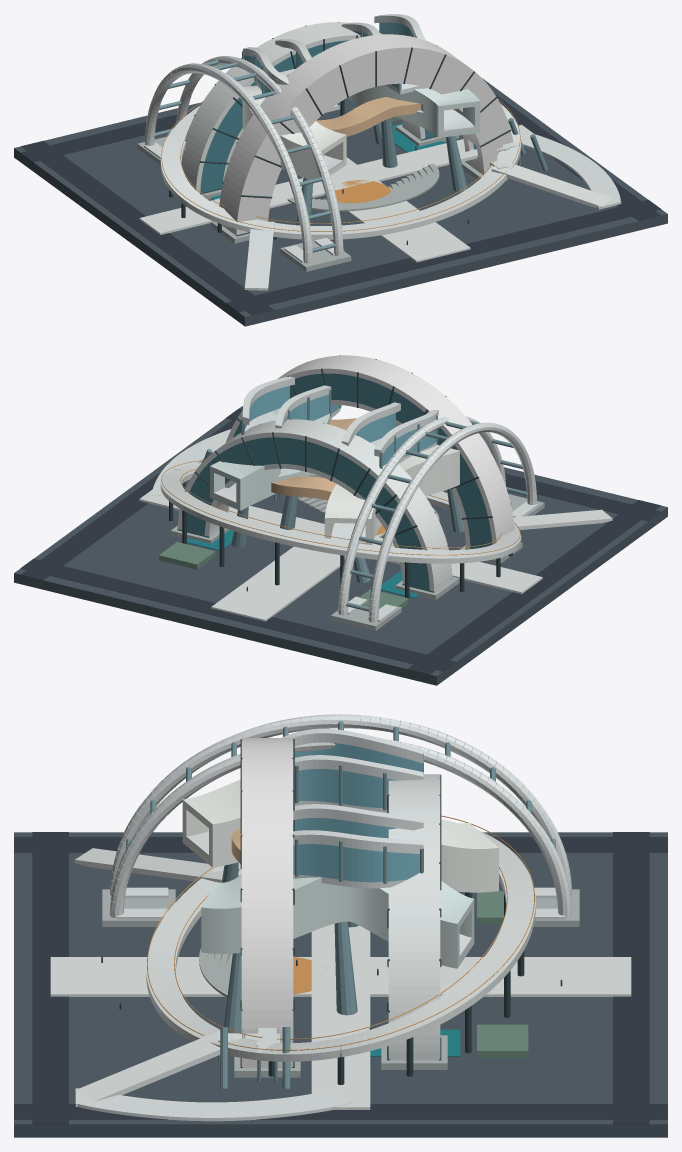
Rendered from a10_inhabited_double_shell_canyon.glb.
The picture shows the model from 3 angles, top to bottom: view 1: azimuth 30°, elevation 25°; view 2: azimuth 150°, elevation 25°; view 3: azimuth 270°, elevation 25°; orthographic projection. The views are drawn at different scales.
Parts seen in each view (by area): view 1: District base, SOUTH continuous glazed occupied band_A9_FLARED, SOUTH outer load shell_A7_PORTAL_A9_FLARED, Continuous elliptical public promenade, E-W road, NORTH outer load shell, N-S road, Public ground, continuous E-W axis, A10_EAST_INHABITED_TIDAL_SHELL, Public ground, continuous N-S axis, NORTH continuous glazed occupied band, A10_WEST_INHABITED_FAULT_SHELL (+15 smaller); view 2: District base, SOUTH outer load shell_A7_PORTAL_A9_FLARED, Continuous elliptical public promenade, NORTH continuous glazed occupied band.001, NORTH outer load shell, E-W road.001, Public ground, continuous N-S axis, N-S road, SOUTH continuous glazed occupied band.001, A10_WEST_INHABITED_FAULT_SHELL, Public ground, continuous E-W axis, A10_EAST_INHABITED_TIDAL_SHELL (+17 smaller); view 3: District base, SOUTH outer load shell_A7_PORTAL_A9_FLARED, Continuous elliptical public promenade, NORTH outer load shell, Public ground, continuous N-S axis, E-W road.001, E-W road, A10_EAST_INHABITED_TIDAL_SHELL, Public ground, continuous E-W axis, A10_WEST_INHABITED_FAULT_SHELL, N-S road.001, A7_APPROACH_CURVED_DECK (+20 smaller).
Part boxes in pixels (bbox=[...]): District base: bbox=[14, 45, 667, 326]; SOUTH continuous glazed occupied band_A9_FLARED: bbox=[241, 52, 508, 233]; SOUTH outer load shell_A7_PORTAL_A9_FLARED: bbox=[219, 34, 513, 235]; Continuous elliptical public promenade: bbox=[160, 103, 521, 239]; E-W road: bbox=[226, 199, 661, 312]; NORTH outer load shell: bbox=[181, 22, 381, 193]; N-S road: bbox=[21, 141, 273, 315]; Public ground, continuous E-W axis: bbox=[139, 124, 533, 234]; A10_EAST_INHABITED_TIDAL_SHELL: bbox=[347, 85, 480, 137]; Public ground, continuous N-S axis: bbox=[297, 157, 470, 262]; NORTH continuous glazed occupied band: bbox=[200, 40, 435, 193]; A10_WEST_INHABITED_FAULT_SHELL: bbox=[242, 85, 346, 181]; District base: bbox=[14, 406, 667, 685]; SOUTH outer load shell_A7_PORTAL_A9_FLARED: bbox=[226, 355, 514, 544]; Continuous elliptical public promenade: bbox=[160, 462, 521, 563]; NORTH continuous glazed occupied band.001: bbox=[187, 437, 429, 590]; NORTH outer load shell: bbox=[177, 419, 452, 591]; E-W road.001: bbox=[20, 558, 455, 671]; Public ground, continuous N-S axis: bbox=[211, 490, 444, 621]; N-S road: bbox=[408, 500, 660, 674]; SOUTH continuous glazed occupied band.001: bbox=[233, 373, 492, 549]; A10_WEST_INHABITED_FAULT_SHELL: bbox=[324, 444, 459, 544]; Public ground, continuous E-W axis: bbox=[139, 489, 542, 594]; A10_EAST_INHABITED_TIDAL_SHELL: bbox=[210, 410, 331, 510]; District base: bbox=[14, 832, 667, 1137]; SOUTH outer load shell_A7_PORTAL_A9_FLARED: bbox=[241, 738, 293, 1067]; Continuous elliptical public promenade: bbox=[146, 820, 535, 1061]; NORTH outer load shell: bbox=[388, 774, 440, 1060]; Public ground, continuous N-S axis: bbox=[50, 957, 631, 996]; E-W road.001: bbox=[613, 832, 649, 1124]; E-W road: bbox=[32, 832, 68, 1124]; A10_EAST_INHABITED_TIDAL_SHELL: bbox=[201, 875, 474, 968]; Public ground, continuous E-W axis: bbox=[311, 923, 370, 1109]; A10_WEST_INHABITED_FAULT_SHELL: bbox=[182, 779, 498, 892]; N-S road.001: bbox=[14, 1104, 667, 1119]; A7_APPROACH_CURVED_DECK: bbox=[75, 1088, 351, 1121].
Size of the model in its own units: 188 by 70 by 178.
